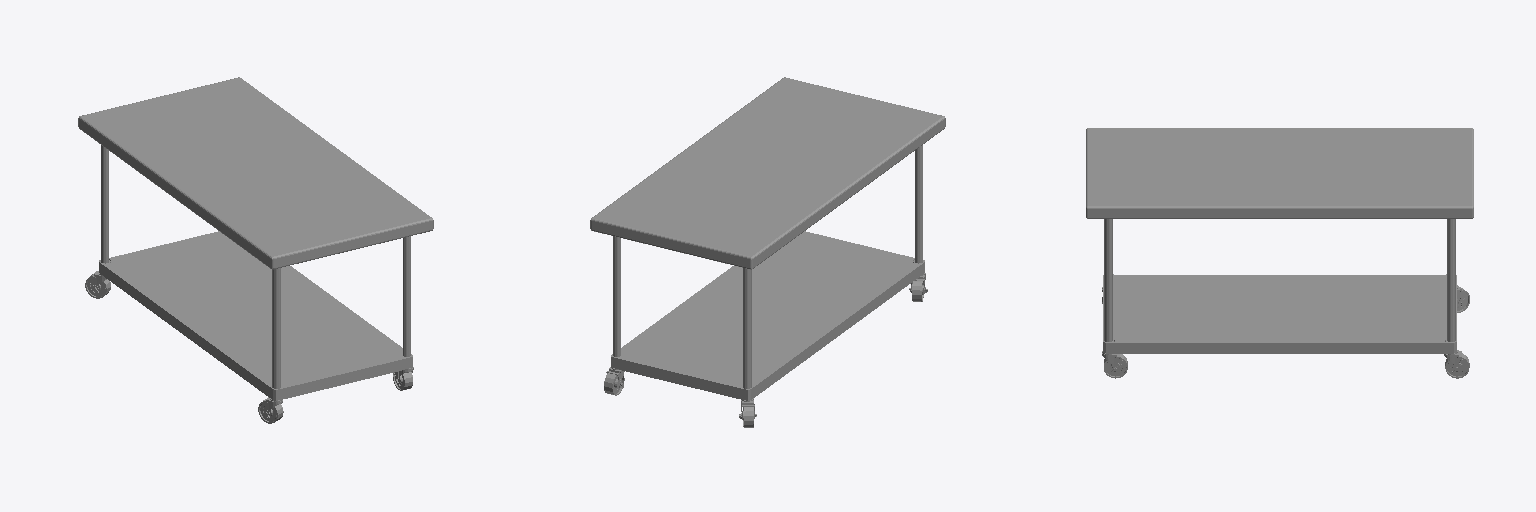
The model's file is table2x1obj.obj.
3 renders of one model, left to right at view 1: azimuth 30°, elevation 25°; view 2: azimuth 150°, elevation 25°; view 3: azimuth 270°, elevation 25°, orthographic.
Parts seen in each view (by area): view 1: Cube.127_Cube.120, Cube.128_Cube.121, Cylinder.332_Cylinder.399, Cylinder.321_Cylinder.388, Cylinder.334_Cylinder.401; view 2: Cube.127_Cube.120, Cube.128_Cube.121, Cylinder.334_Cylinder.401, Cylinder.333_Cylinder.400, Cylinder.332_Cylinder.399; view 3: Cube.127_Cube.120, Cube.128_Cube.121, Cylinder.321_Cylinder.388, Cylinder.333_Cylinder.400.
Boxes of the visible parts, box(x1,y1,x2,y2) form: Cube.127_Cube.120: box(78, 77, 433, 269); Cube.128_Cube.121: box(103, 231, 403, 398); Cylinder.332_Cylinder.399: box(270, 268, 282, 401); Cylinder.321_Cylinder.388: box(403, 236, 411, 369); Cylinder.334_Cylinder.401: box(99, 145, 108, 275); Cube.127_Cube.120: box(590, 77, 945, 269); Cube.128_Cube.121: box(620, 231, 920, 398); Cylinder.334_Cylinder.401: box(741, 268, 753, 401); Cylinder.333_Cylinder.400: box(612, 236, 620, 369); Cylinder.332_Cylinder.399: box(915, 145, 924, 275); Cube.127_Cube.120: box(1086, 128, 1473, 218); Cube.128_Cube.121: box(1103, 275, 1456, 353); Cylinder.321_Cylinder.388: box(1102, 219, 1112, 354); Cylinder.333_Cylinder.400: box(1447, 219, 1457, 354).
Size of the model in its own units: 2.45 by 2.56 by 5.07.